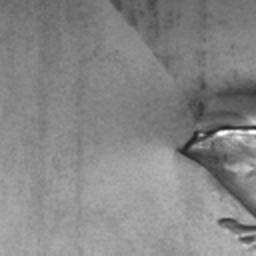Slag inclusion: (174, 124, 256, 220), (188, 81, 246, 124), (218, 218, 256, 256), (214, 86, 256, 99)
